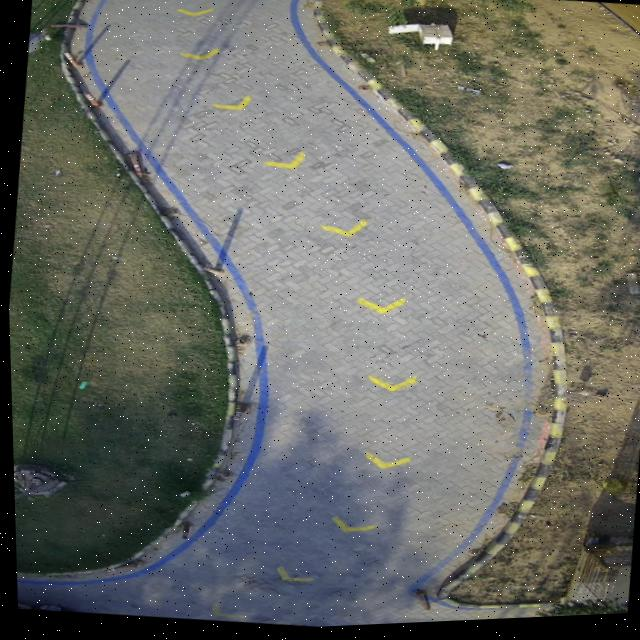No Car: (7, 0, 640, 629)
